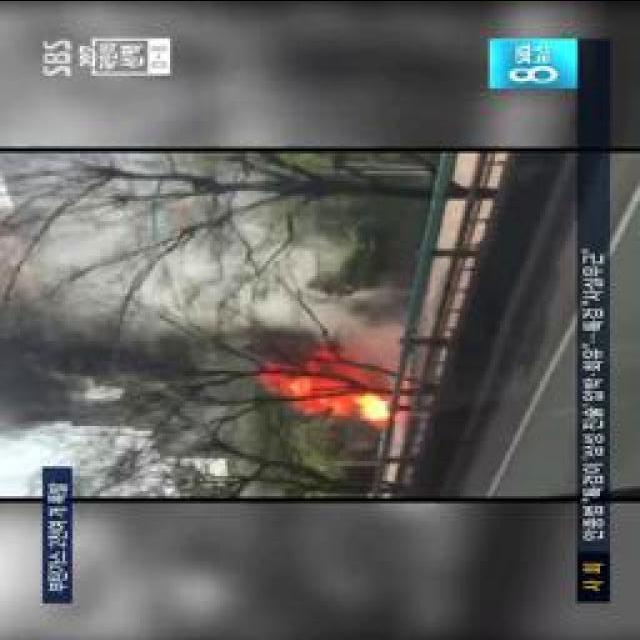Fire: (282, 346, 388, 424)
